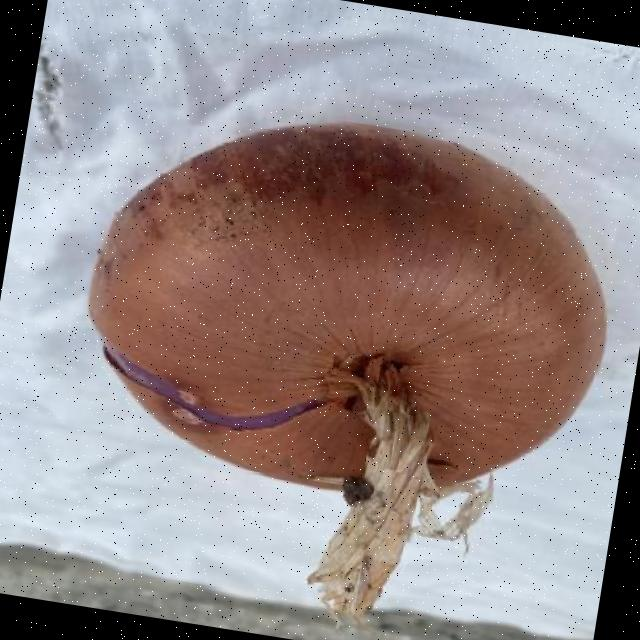Onion: (87, 124, 605, 622)
